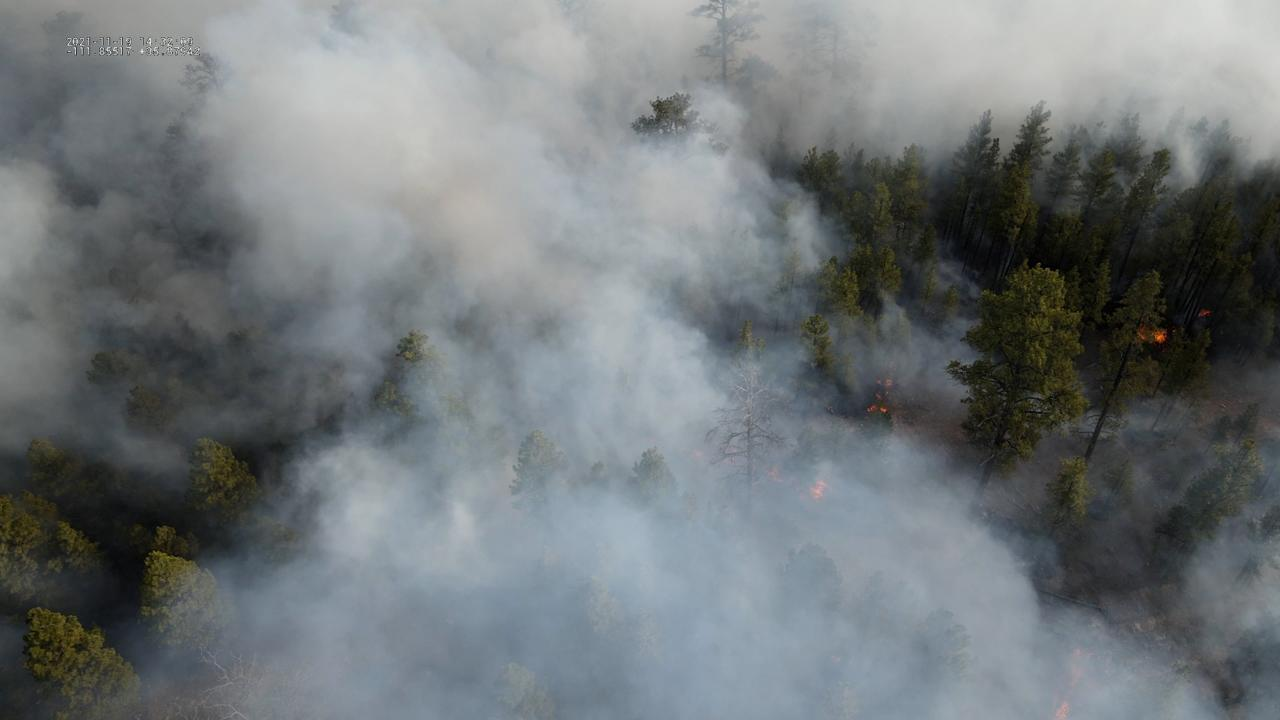fire: (1136, 322, 1168, 343), (809, 479, 831, 507), (1051, 700, 1074, 720), (1195, 307, 1213, 318), (874, 390, 889, 403), (883, 375, 894, 388), (864, 404, 878, 413), (879, 406, 889, 415), (875, 377, 882, 385)
smoke: (0, 0, 1280, 720)
